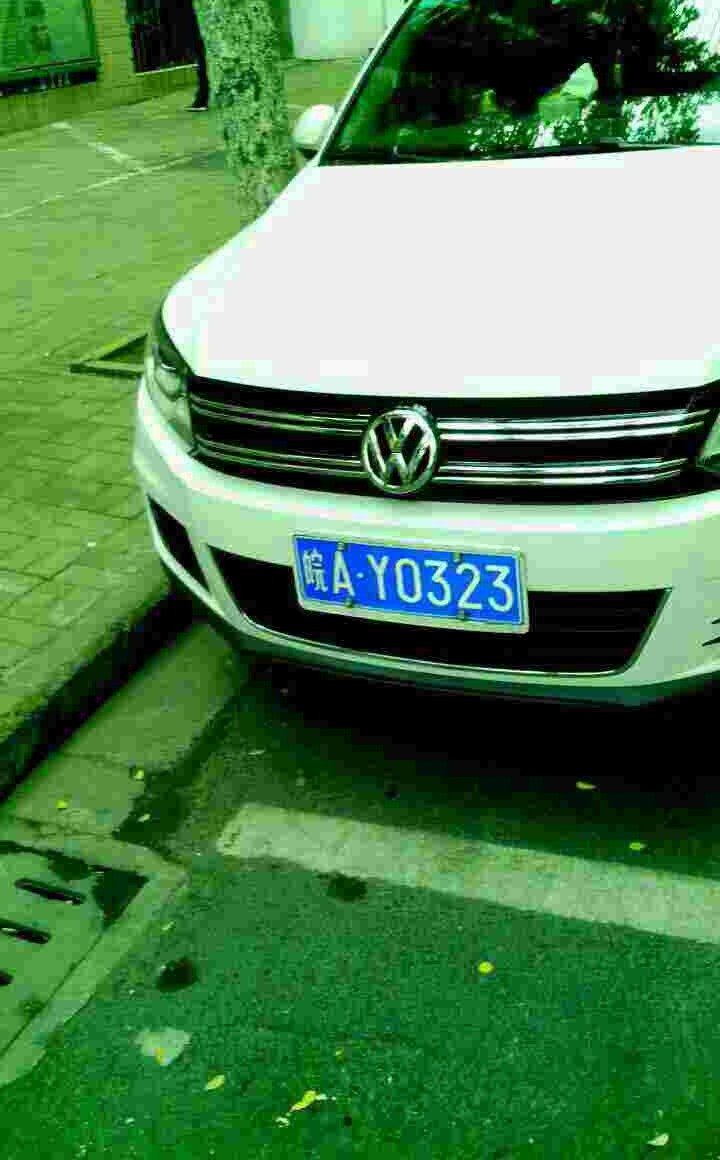plate: (290, 530, 527, 630)
